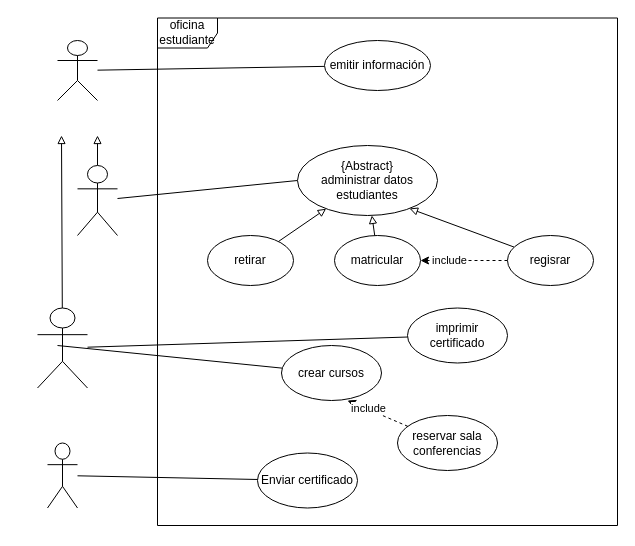
This 635x546 diagram has some shape labels left out. The shapes that lost their labels are listed below. From the top down, each one's box as (x1, y1, x2, y2) in pixels, then its label:
(56, 40, 98, 100): EstudianteOficinaEmpl
(76, 164, 118, 236): ServEmp
(36, 307, 88, 388): AdmEmp
(46, 442, 78, 508): profesor
